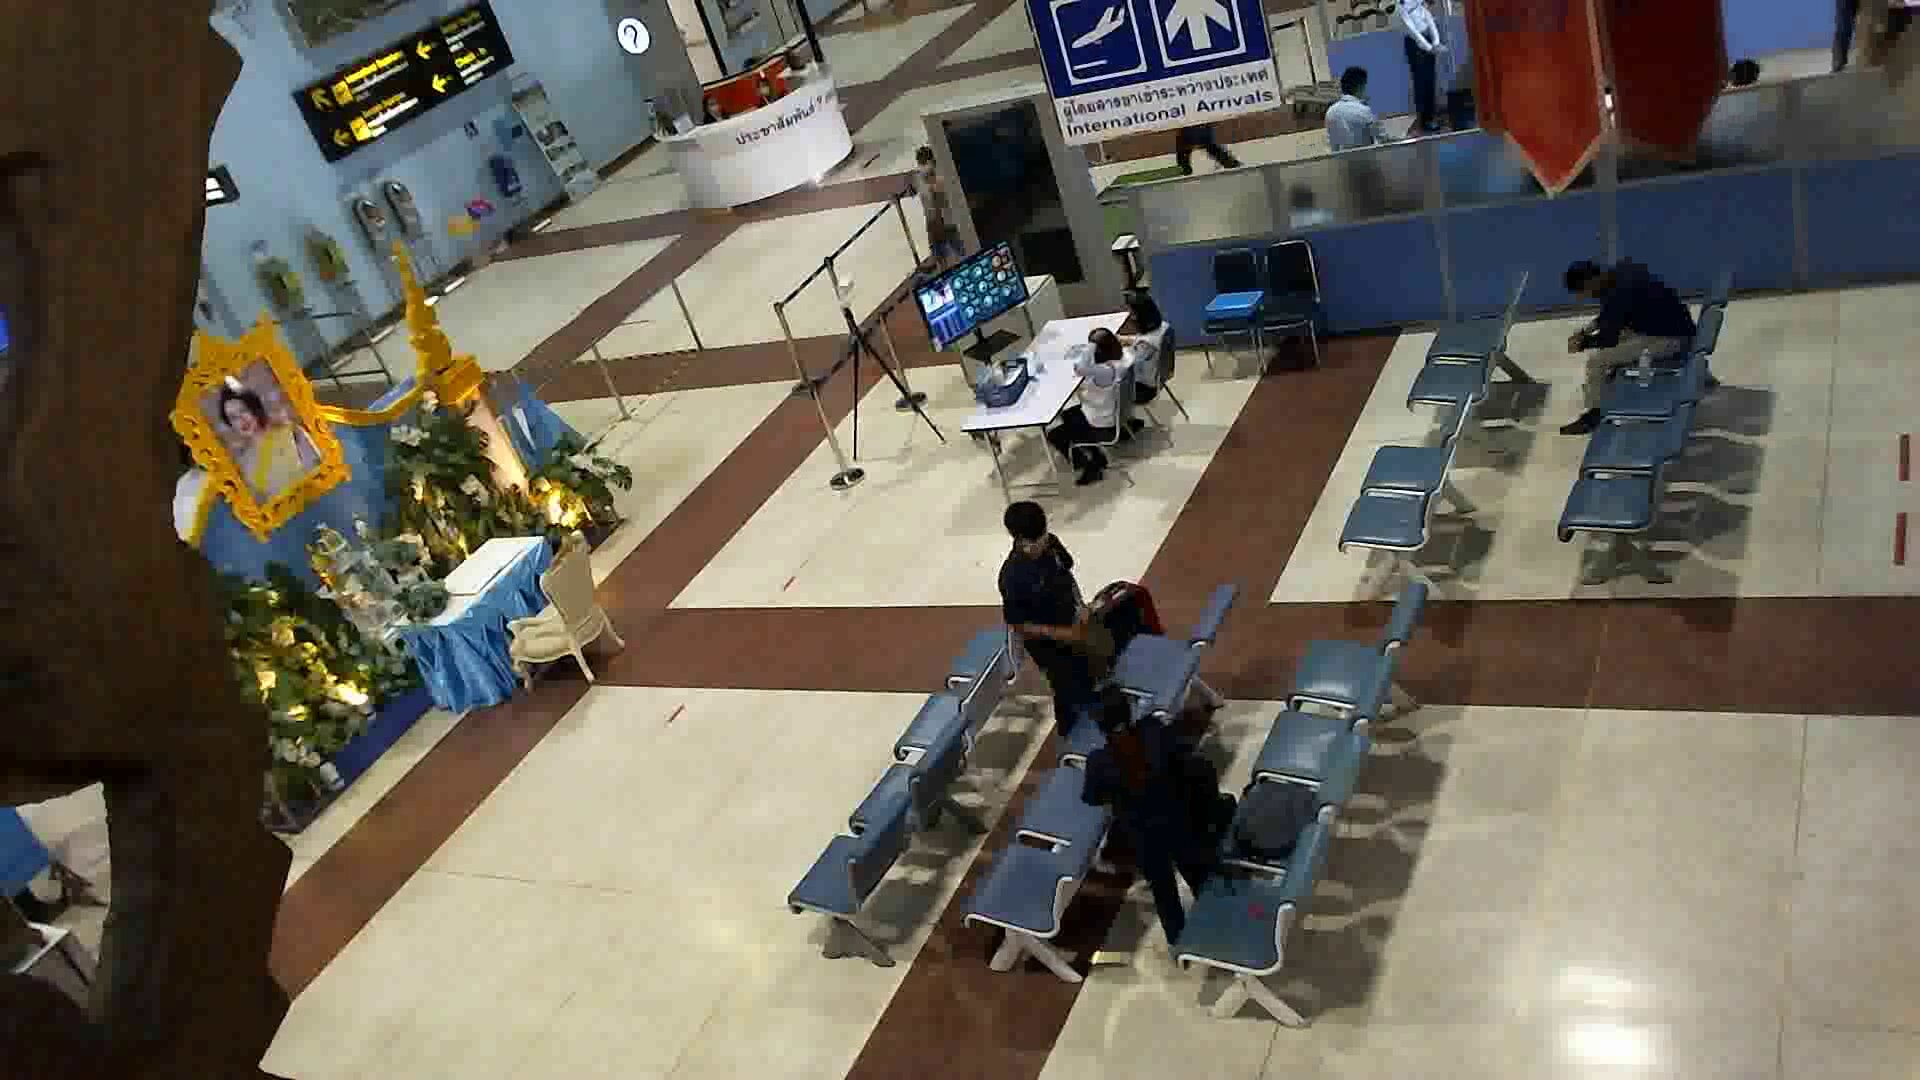backpack: (1228, 765, 1320, 866), (1070, 622, 1124, 690)
luggage: (1089, 572, 1164, 663)
people: (1081, 691, 1229, 968), (1543, 243, 1724, 441), (993, 495, 1106, 761), (1047, 326, 1145, 486), (906, 136, 968, 290), (1106, 284, 1179, 407)
